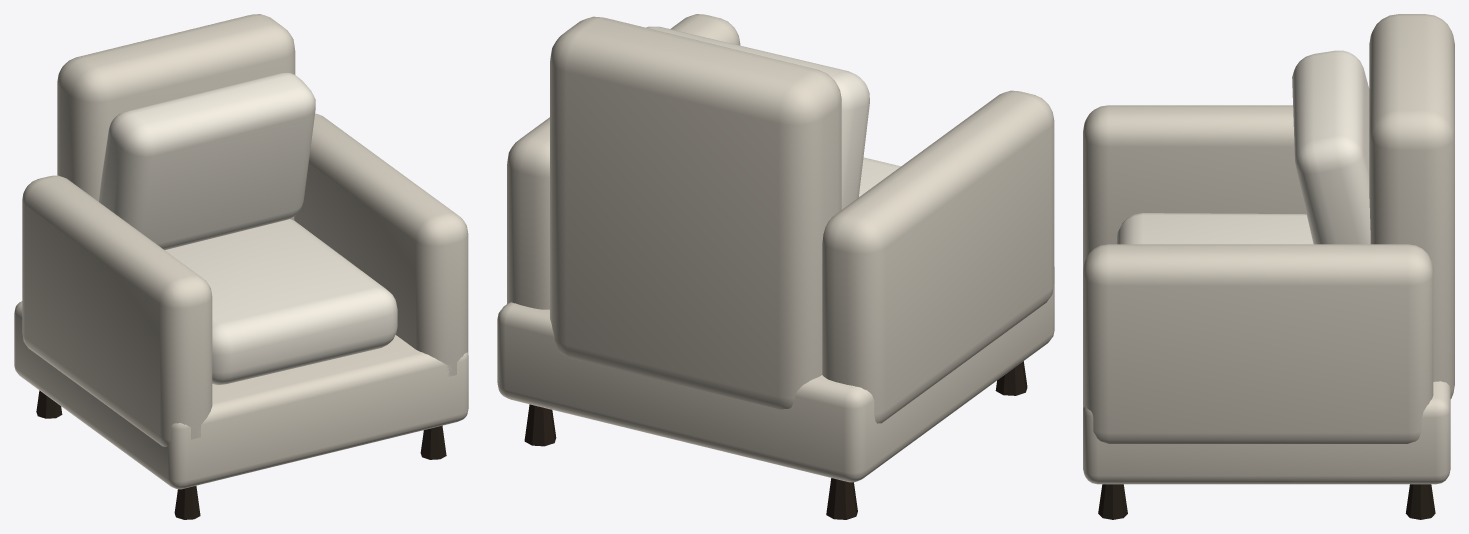
The model's file is armchair.glb.
The picture shows the model from 3 angles, left to right: view 1: azimuth 30°, elevation 25°; view 2: azimuth 150°, elevation 25°; view 3: azimuth 270°, elevation 25°; orthographic projection. The views are drawn at different scales.
Parts seen in each view (by area): view 1: arm_arm, arm_base, arm_bk, arm_seat, arm_arm.001, arm_back, arm_leg, arm_leg.002; view 2: arm_back, arm_arm, arm_base, arm_arm.001, arm_bk, arm_leg.001, arm_leg.003, arm_seat, arm_leg; view 3: arm_arm.001, arm_arm, arm_back, arm_base, arm_bk, arm_seat, arm_leg.003, arm_leg.002.
Part boxes in pixels (<box>): arm_arm: <box>22,175,212,446</box>; arm_base: <box>14,301,468,489</box>; arm_bk: <box>99,72,315,249</box>; arm_seat: <box>165,219,397,385</box>; arm_arm.001: <box>294,113,468,376</box>; arm_back: <box>57,14,295,220</box>; arm_leg: <box>174,486,200,519</box>; arm_leg.002: <box>420,425,446,459</box>; arm_back: <box>550,16,841,409</box>; arm_arm: <box>822,90,1054,423</box>; arm_base: <box>497,267,1054,482</box>; arm_arm.001: <box>507,14,740,309</box>; arm_bk: <box>646,26,869,209</box>; arm_leg.001: <box>826,478,857,519</box>; arm_leg.003: <box>524,404,556,446</box>; arm_seat: <box>859,157,900,196</box>; arm_leg: <box>995,361,1027,395</box>; arm_arm.001: <box>1083,244,1433,443</box>; arm_arm: <box>1083,105,1306,269</box>; arm_back: <box>1369,14,1454,398</box>; arm_base: <box>1083,381,1450,484</box>; arm_bk: <box>1292,50,1370,244</box>; arm_seat: <box>1116,213,1313,244</box>; arm_leg.003: <box>1405,484,1435,519</box>; arm_leg.002: <box>1098,484,1127,519</box>.
Bounding box in the file's own units: 0.92 × 0.99 × 0.87.
